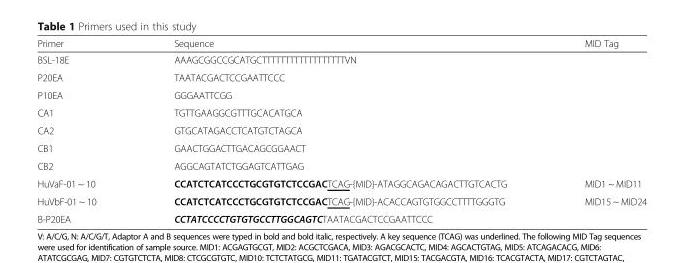table: (36, 37, 646, 224)
table column: (134, 37, 545, 224), (545, 37, 646, 224), (36, 37, 134, 224)
table column header: (36, 37, 646, 51)
table row: (36, 68, 646, 86), (36, 103, 646, 121), (36, 121, 646, 139), (36, 156, 646, 174), (36, 174, 646, 192), (36, 51, 646, 68), (36, 86, 646, 103), (36, 139, 646, 156), (36, 192, 646, 209), (36, 209, 646, 224), (36, 37, 646, 51)
